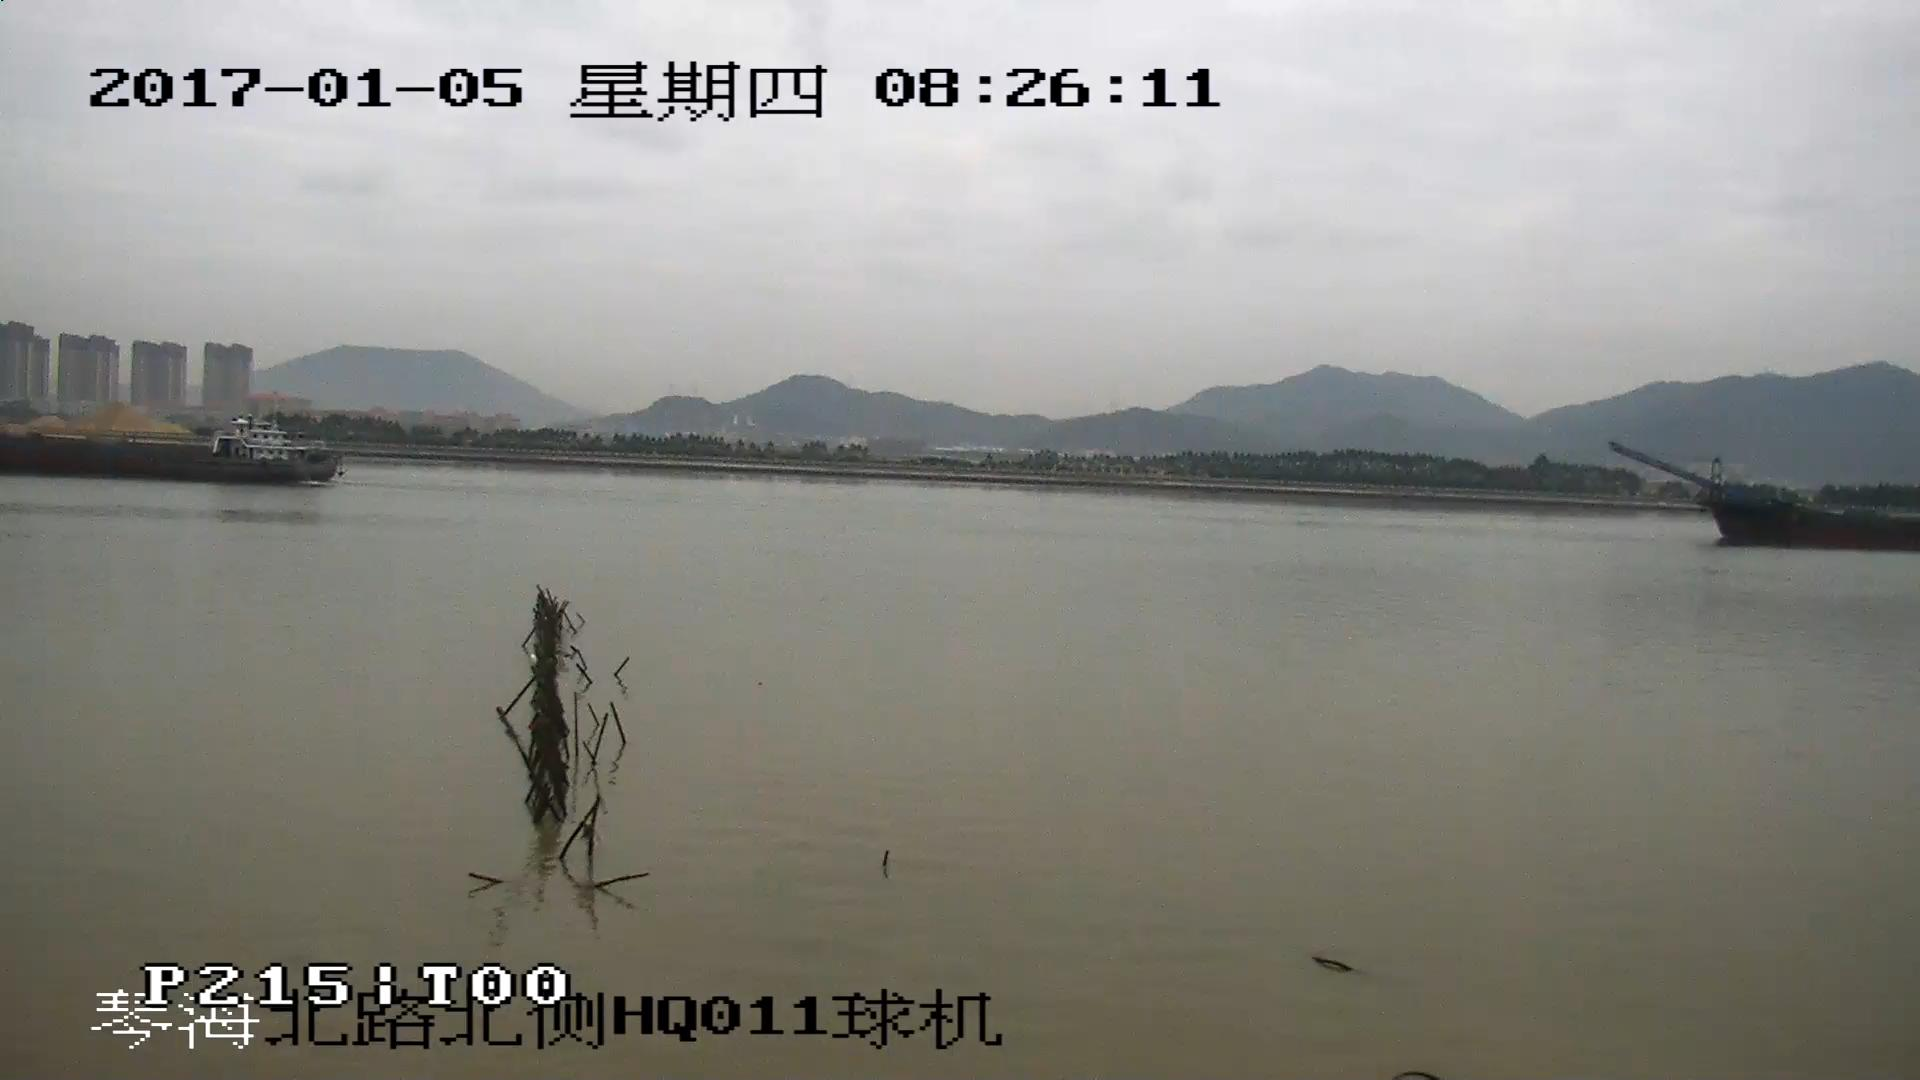bulk cargo carrier: (1610, 442, 1920, 551), (1, 420, 344, 482)
